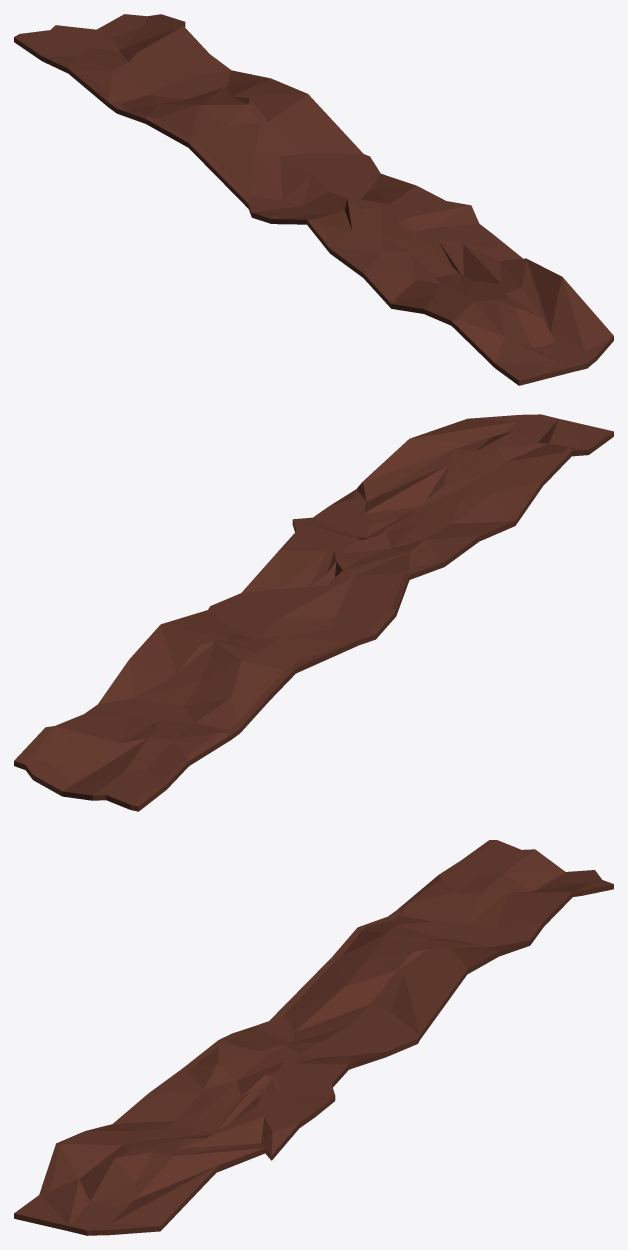
File: BaconBurnt.fbx
The picture shows the model from 3 angles, top to bottom: view 1: azimuth 30°, elevation 25°; view 2: azimuth 150°, elevation 25°; view 3: azimuth 330°, elevation 25°; orthographic projection. The views are drawn at different scales.
Visible parts, largest first — view 1: BaconBurnt; view 2: BaconBurnt; view 3: BaconBurnt.
Boxes of the visible parts, x1=… form: BaconBurnt: x1=14, y1=14, x2=613, y2=385; BaconBurnt: x1=14, y1=414, x2=613, y2=811; BaconBurnt: x1=14, y1=840, x2=613, y2=1235.
Size of the model in its own units: 127 by 31.54 by 681.
